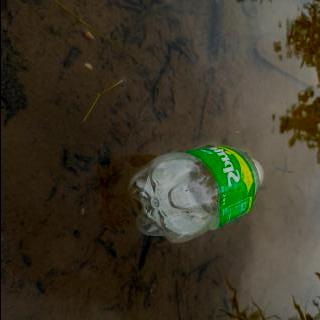bottle: (125, 145, 262, 245)
